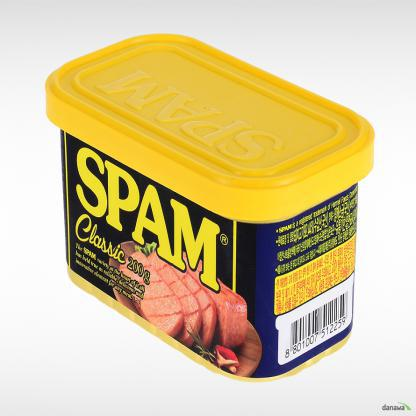spam: (32, 32, 366, 383)
